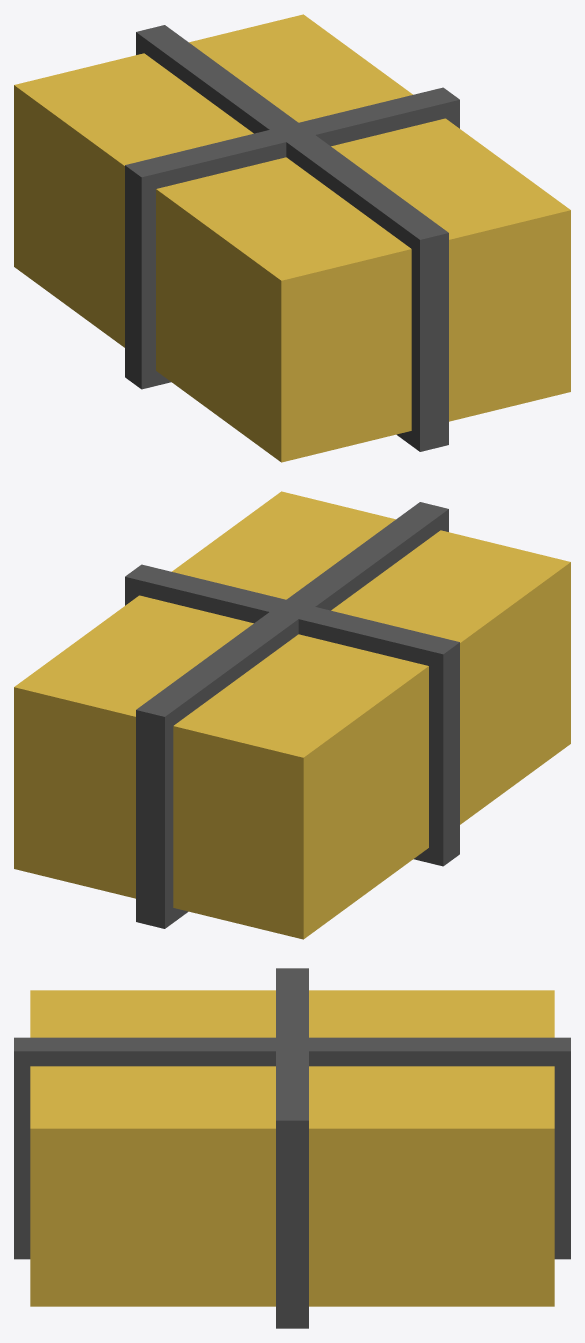
The model's file is HayBale.fbx.
The picture shows the model from 3 angles, top to bottom: view 1: azimuth 30°, elevation 25°; view 2: azimuth 150°, elevation 25°; view 3: azimuth 270°, elevation 25°; orthographic projection. The views are drawn at different scales.
Visible parts, largest first — view 1: WheatA, WheatB; view 2: WheatA, WheatB; view 3: WheatA, WheatB.
Boxes of the visible parts, bbox=[...] form: WheatA: bbox=[14, 14, 570, 462]; WheatB: bbox=[125, 25, 459, 451]; WheatA: bbox=[14, 491, 570, 939]; WheatB: bbox=[125, 502, 459, 928]; WheatA: bbox=[30, 990, 554, 1306]; WheatB: bbox=[14, 968, 570, 1328].
Bounding box in the file's own units: 55 × 35 × 85.
